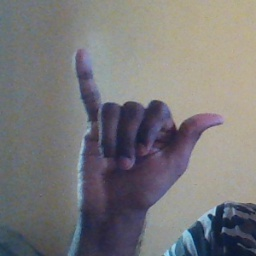J: (68, 44, 227, 209)
